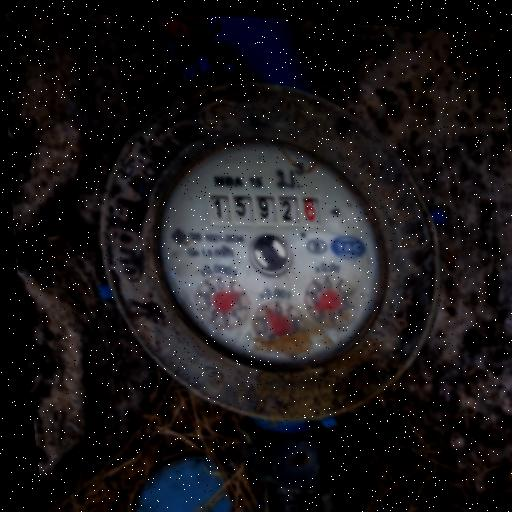1: (210, 196, 231, 223)
2: (280, 197, 300, 223)
5: (234, 196, 254, 223)
6: (303, 198, 321, 224)
9: (256, 195, 274, 221)
border_water_meter_number: (201, 185, 329, 235)
